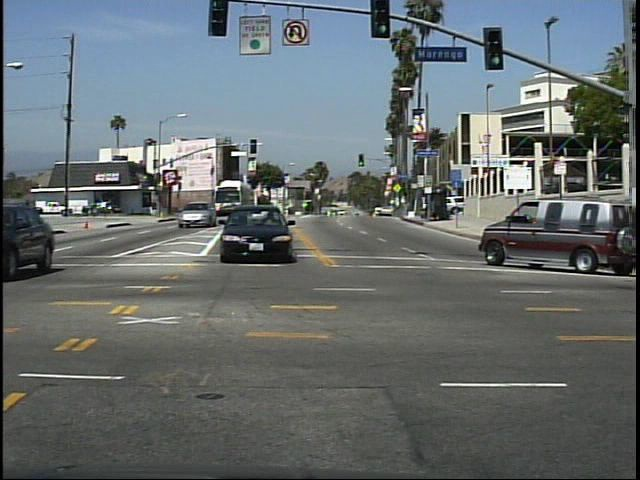person: (20, 195, 36, 224)
